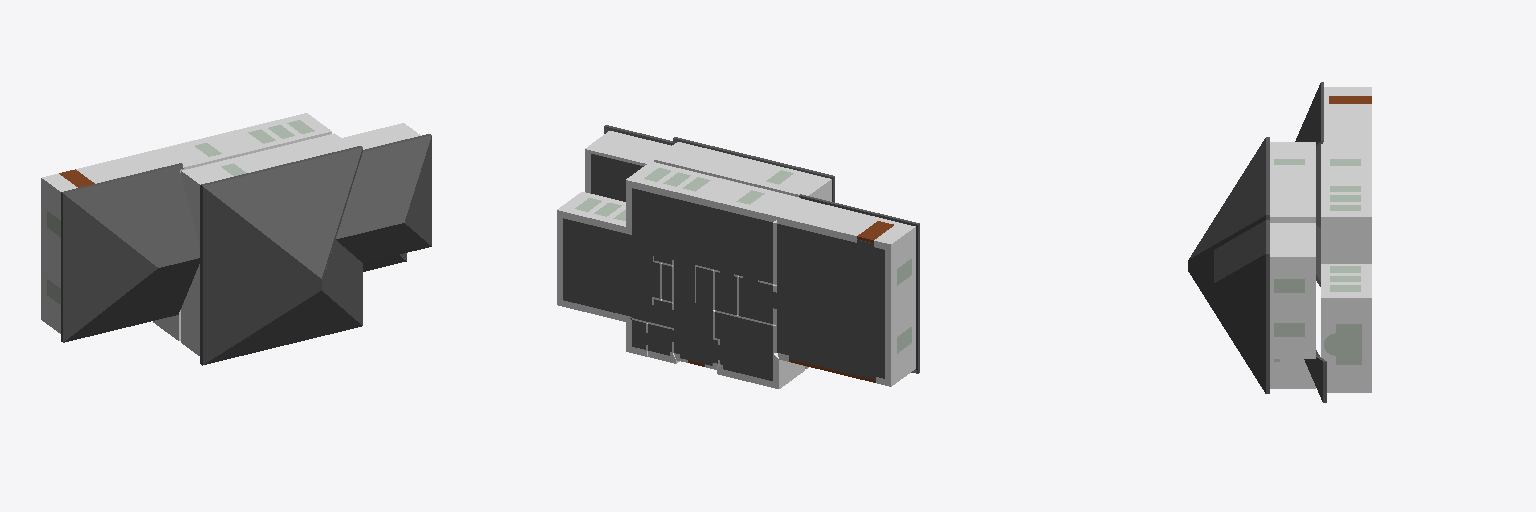
Rendered from 2_floors_house.obj.
3 renders of one model, left to right at view 1: azimuth 30°, elevation 25°; view 2: azimuth 150°, elevation 25°; view 3: azimuth 270°, elevation 25°, orthographic.
Parts seen in each view (by area): view 1: 40_Deg._Slope_Hip_Roof_-_Wood_Shakes, 230mm_Brick_/_Block_Wall, 120mm_Vinyl_Siding, 750x1500_Casement_Window; view 2: Wool,_Level_Loop_Carpet, 230mm_Brick_/_Block_Wall, 40_Deg._Slope_Hip_Roof_-_Wood_Shakes, 120mm_Vinyl_Siding, 750x1500_Casement_Window, 100mm_Stud_Wall; view 3: 230mm_Brick_/_Block_Wall, 40_Deg._Slope_Hip_Roof_-_Wood_Shakes, 750x1500_Casement_Window, 120mm_Vinyl_Siding, 1210_dia_arched_window.
Part boxes in pixels (bbox=[...]): 40_Deg._Slope_Hip_Roof_-_Wood_Shakes: bbox=[61, 134, 431, 365]; 230mm_Brick_/_Block_Wall: bbox=[41, 113, 352, 355]; 120mm_Vinyl_Siding: bbox=[342, 123, 420, 149]; 750x1500_Casement_Window: bbox=[195, 120, 314, 175]; Wool,_Level_Loop_Carpet: bbox=[563, 154, 884, 380]; 230mm_Brick_/_Block_Wall: bbox=[557, 142, 915, 388]; 40_Deg._Slope_Hip_Roof_-_Wood_Shakes: bbox=[604, 125, 919, 373]; 120mm_Vinyl_Siding: bbox=[585, 131, 670, 165]; 750x1500_Casement_Window: bbox=[575, 168, 793, 220]; 100mm_Stud_Wall: bbox=[632, 256, 774, 363]; 230mm_Brick_/_Block_Wall: bbox=[1270, 87, 1371, 392]; 40_Deg._Slope_Hip_Roof_-_Wood_Shakes: bbox=[1188, 82, 1326, 402]; 750x1500_Casement_Window: bbox=[1274, 159, 1360, 336]; 120mm_Vinyl_Siding: bbox=[1270, 223, 1315, 256]; 1210_dia_arched_window: bbox=[1324, 324, 1361, 364].
Bounding box in the file's own units: 19.36 × 9.62 × 8.92.